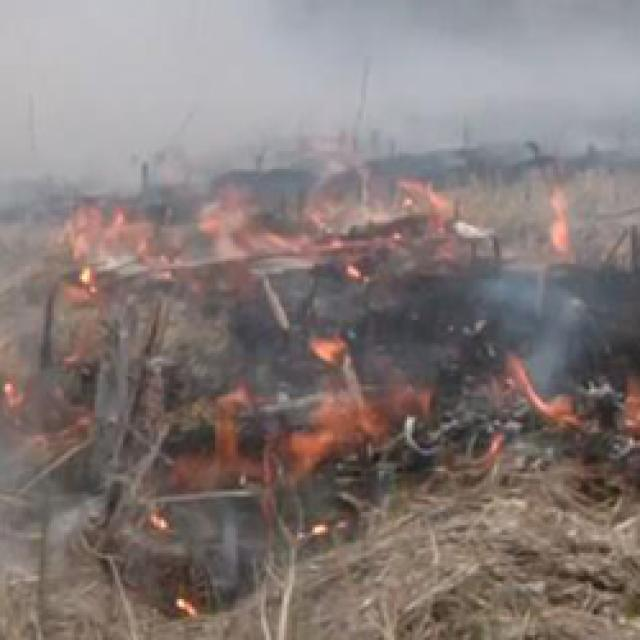Fire: (266, 310, 448, 476), (196, 158, 377, 280), (496, 330, 640, 472), (512, 143, 616, 280), (175, 370, 270, 492), (0, 357, 81, 459), (386, 156, 466, 256), (58, 190, 146, 268), (290, 502, 377, 564), (68, 247, 110, 305), (165, 582, 215, 626), (142, 504, 184, 550)
Smoke: (0, 0, 258, 632), (0, 0, 629, 231)
